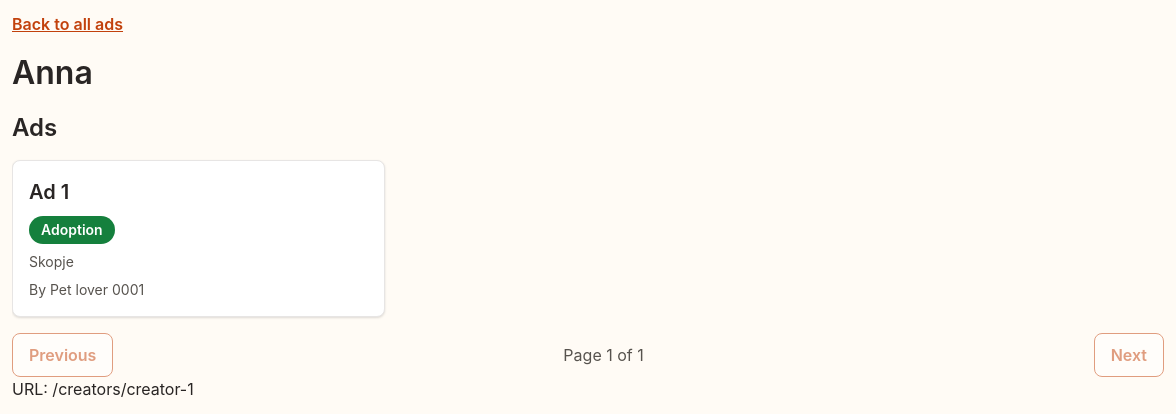
Test: CreatorProfilePage › content › leads back to the home page with the back link
Expected: the heading "Anna" is shown, [12,53,93,92]
What coordinates should you click on to do the following:
click the link "Back to all ads"
I would click on:
 (68, 24)
Its box is [12,14,123,34].
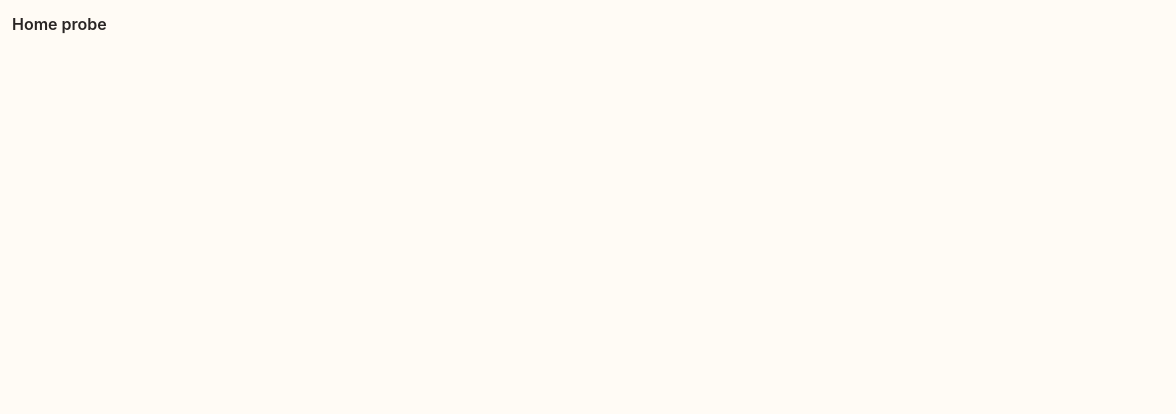
Result: the heading "Home probe" is shown at [12,14,107,34]
